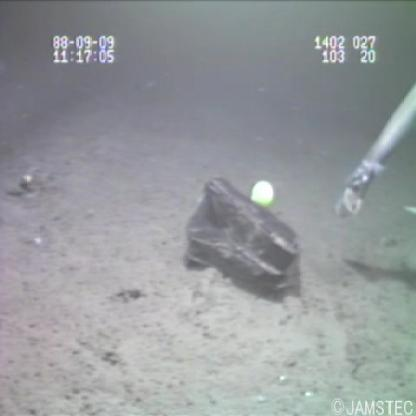Bio: (332, 83, 416, 227)
Rác: (181, 172, 303, 304)
